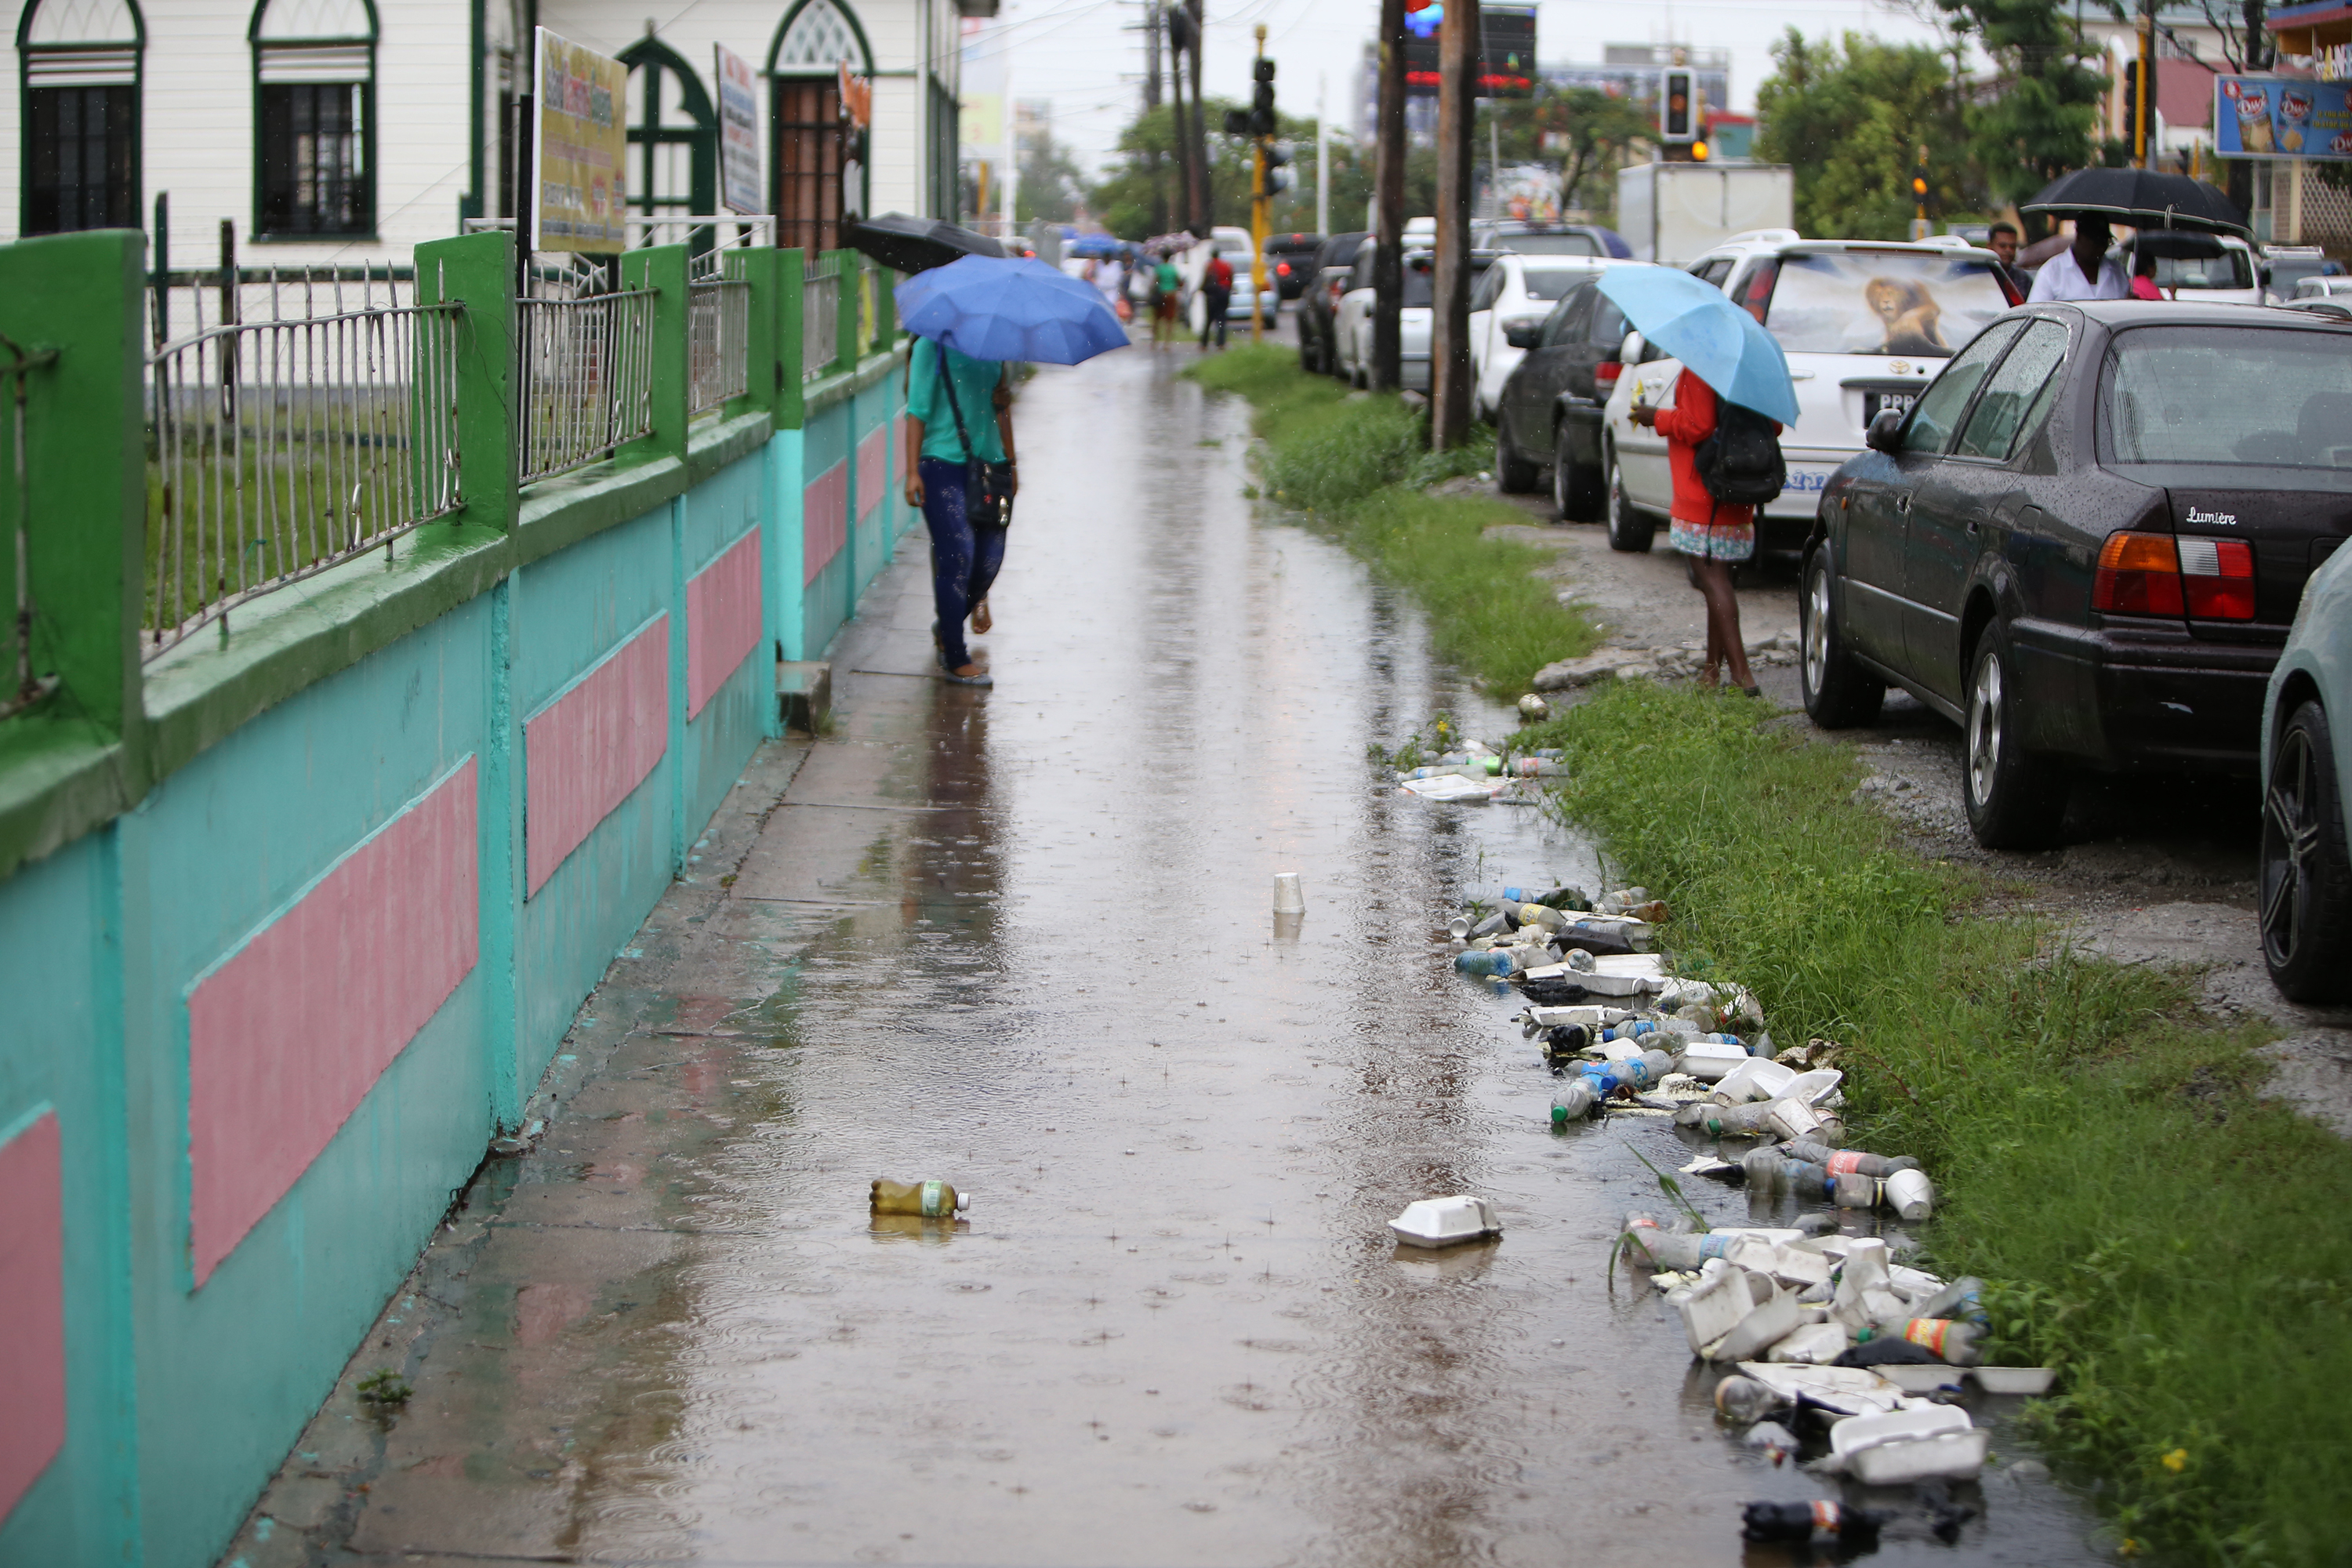garbage: (1473, 891, 2056, 1545), (1386, 712, 1578, 810)
